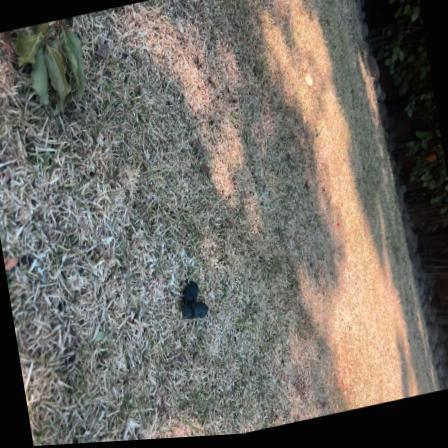dog-poop: (174, 283, 214, 328)
